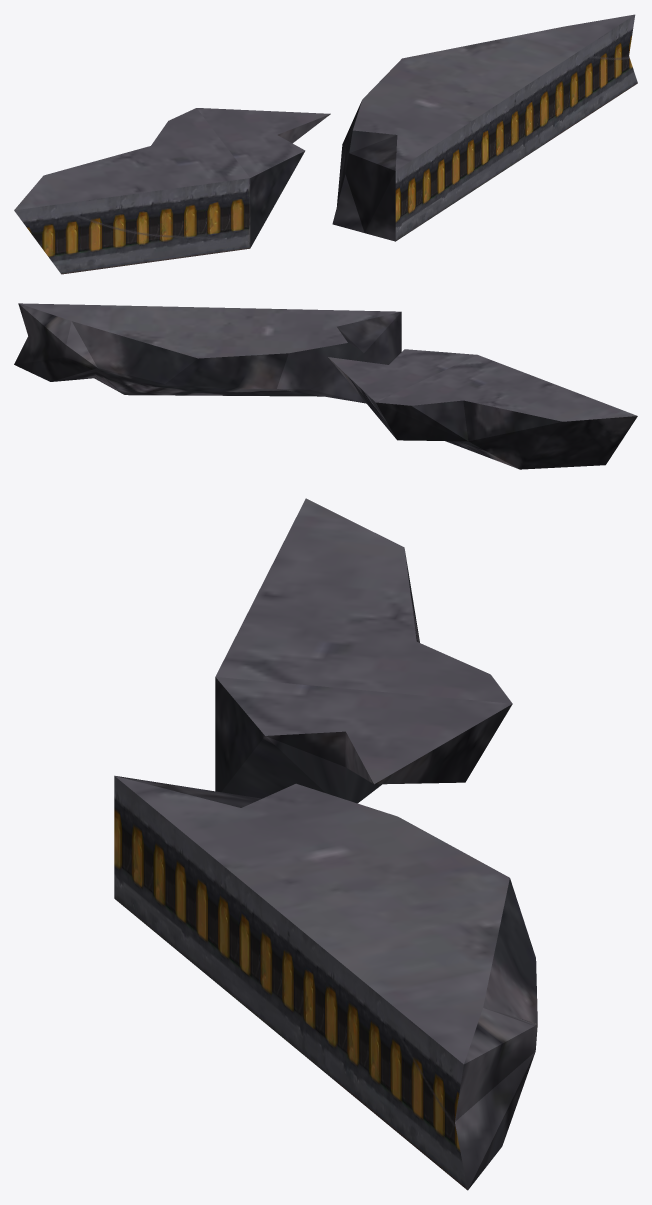
Rendered from BOSS_Stone_07.FBX.
The picture shows the model from 3 angles, top to bottom: view 1: azimuth 30°, elevation 25°; view 2: azimuth 150°, elevation 25°; view 3: azimuth 270°, elevation 25°; orthographic projection. The views are drawn at different scales.
Parts seen in each view (by area): view 1: BOSS_Stone_07; view 2: BOSS_Stone_07; view 3: BOSS_Stone_07.
Boxes of the visible parts, x1,y1,x2,y2 form: BOSS_Stone_07: [14, 14, 637, 274]; BOSS_Stone_07: [14, 303, 637, 469]; BOSS_Stone_07: [114, 498, 537, 1190].
Size of the model in its own units: 5.22 by 0.525 by 1.64.
